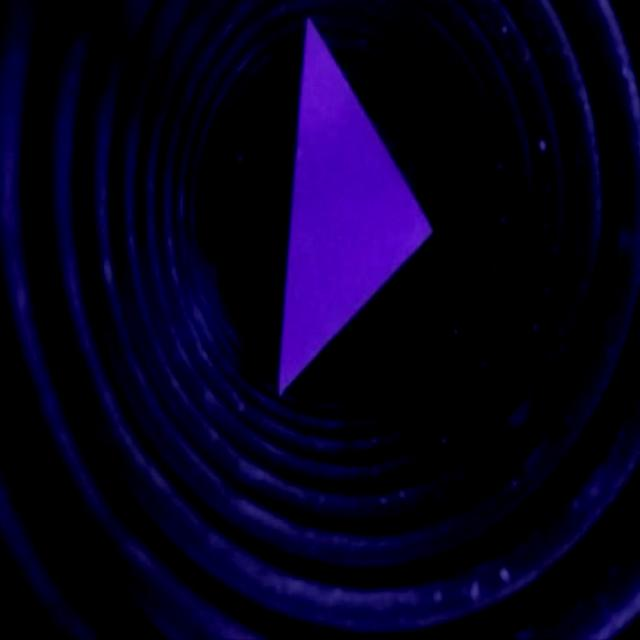obstacles: (279, 11, 435, 394)
